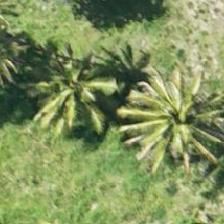coconut_tree: (37, 42, 127, 132), (126, 70, 216, 160), (118, 55, 208, 145), (49, 55, 139, 145)
